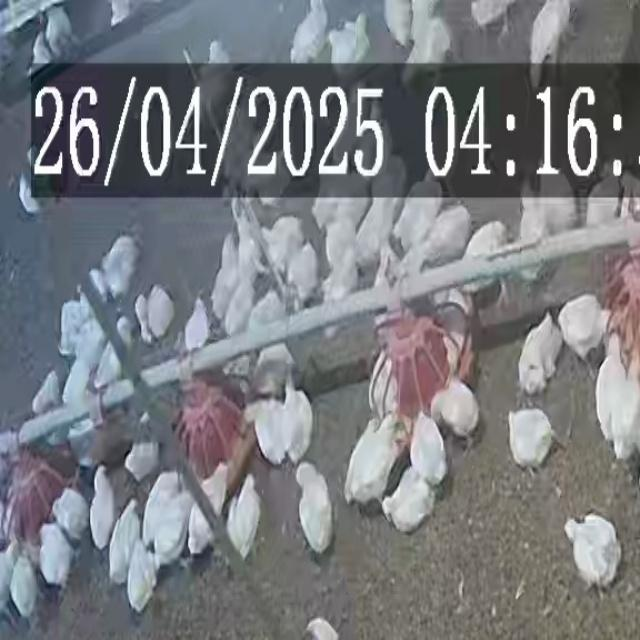chicken: (340, 413, 406, 499), (562, 508, 622, 592), (523, 0, 571, 89), (593, 332, 631, 437), (187, 466, 230, 554), (396, 169, 442, 250), (462, 224, 508, 302), (435, 288, 473, 376), (400, 18, 452, 82), (298, 462, 334, 554), (507, 409, 557, 475), (382, 473, 436, 534), (518, 316, 560, 392), (408, 412, 453, 481), (140, 472, 184, 542), (434, 380, 482, 444), (561, 294, 606, 361), (227, 474, 262, 559), (424, 208, 471, 268), (611, 362, 640, 459), (96, 317, 134, 389), (357, 195, 394, 266), (109, 499, 140, 583), (584, 160, 620, 232), (159, 491, 194, 564), (517, 180, 544, 274), (208, 235, 238, 317), (247, 401, 286, 464), (290, 0, 329, 63), (362, 355, 402, 416), (331, 14, 369, 78), (284, 377, 312, 460), (38, 524, 72, 586), (265, 214, 305, 266), (323, 248, 357, 309), (252, 346, 294, 394), (284, 243, 319, 300), (90, 466, 114, 549), (52, 488, 89, 540), (203, 42, 231, 109), (104, 237, 135, 295), (225, 276, 254, 338), (130, 544, 156, 610), (326, 200, 354, 260), (125, 430, 158, 480), (56, 297, 85, 353), (248, 292, 289, 330), (10, 560, 36, 617), (148, 286, 174, 338), (184, 296, 209, 350), (469, 2, 512, 30), (136, 295, 152, 345)
